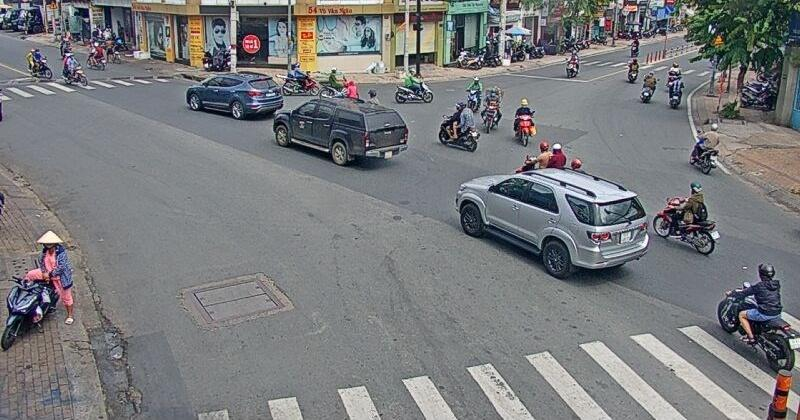xe hoi: (455, 167, 648, 278), (272, 98, 406, 165), (185, 73, 281, 119)
xe may: (716, 263, 799, 371), (651, 181, 719, 256), (437, 102, 478, 152), (689, 123, 719, 175), (394, 69, 433, 102), (282, 63, 319, 96), (512, 97, 535, 148), (482, 87, 502, 132), (317, 67, 345, 99)
